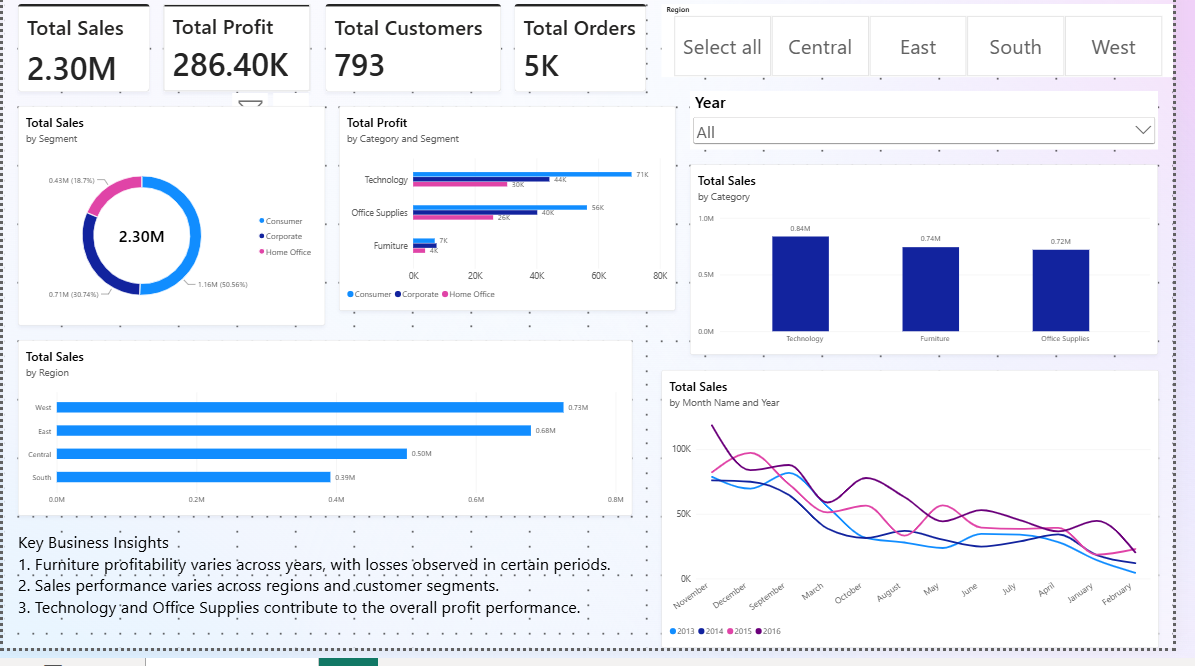

This screenshot's page, from the dashboard's own definition file:
{"tool":"powerbi","page":{"name":"Sales  Analysis","canvas":[1920,1080],"ordinal":0},"visuals":[{"type":"cardVisual","fields":{"Data":["Orders.Total Sales"]},"box":[24,24,216,144],"z":0},{"type":"cardVisual","fields":{"Data":["Orders.Total Profit"]},"box":[264,24,240,144],"z":1},{"type":"cardVisual","fields":{"Data":["Orders.Total Orders"]},"box":[840,24,216,144],"z":2},{"type":"cardVisual","fields":{"Data":["Orders.Total Customers"]},"box":[528,24,288,144],"z":3},{"type":"clusteredBarChart","fields":{"Category":["Orders.Region"],"Y":["Orders.Total Sales"]},"box":[24,576,1008,288],"z":4},{"type":"clusteredColumnChart","fields":{"Category":["Orders.Category"],"Y":["Orders.Total Sales"]},"box":[1128,288,768,312],"z":5},{"type":"slicer","fields":{"Values":["Orders.Region"]},"box":[1080,24,840,120],"z":7},{"type":"slicer","fields":{"Values":["DateTable.Year"]},"box":[1128,168,768,96],"z":8},{"type":"donutChart","fields":{"Category":["Orders.Segment"],"Y":["Orders.Total Sales"]},"box":[24,192,504,360],"z":9},{"type":"clusteredBarChart","fields":{"Category":["Orders.Category"],"Series":["Orders.Segment"],"Y":["Orders.Total Profit"]},"box":[552,192,552,336],"z":10},{"type":"lineChart","fields":{"Category":["DateTable.Month Name"],"Series":["DateTable.Year"],"Y":["Orders.Total Sales"]},"box":[1080,624,816,456],"z":11},{"type":"textbox","box":[24,888,1032,192],"z":12}]}

Visuals, with their boxes in screenshot pixels (x1, y1, x2, y2), scaled from the page's 1920x1080 canvas onto the 1195x666 screenshot:
cardVisual - Orders.Total Sales: region(15, 15, 149, 104)
cardVisual - Orders.Total Profit: region(164, 15, 314, 104)
cardVisual - Orders.Total Orders: region(523, 15, 657, 104)
cardVisual - Orders.Total Customers: region(329, 15, 508, 104)
clusteredBarChart - Orders.Region x Orders.Total Sales: region(15, 355, 642, 533)
clusteredColumnChart - Orders.Category x Orders.Total Sales: region(702, 178, 1180, 370)
slicer - Orders.Region: region(672, 15, 1194, 89)
slicer - DateTable.Year: region(702, 104, 1180, 163)
donutChart - Orders.Segment x Orders.Total Sales: region(15, 118, 329, 340)
clusteredBarChart - Orders.Category x Orders.Segment: region(344, 118, 687, 326)
lineChart - DateTable.Month Name x DateTable.Year: region(672, 385, 1180, 665)
textbox: region(15, 548, 657, 665)
